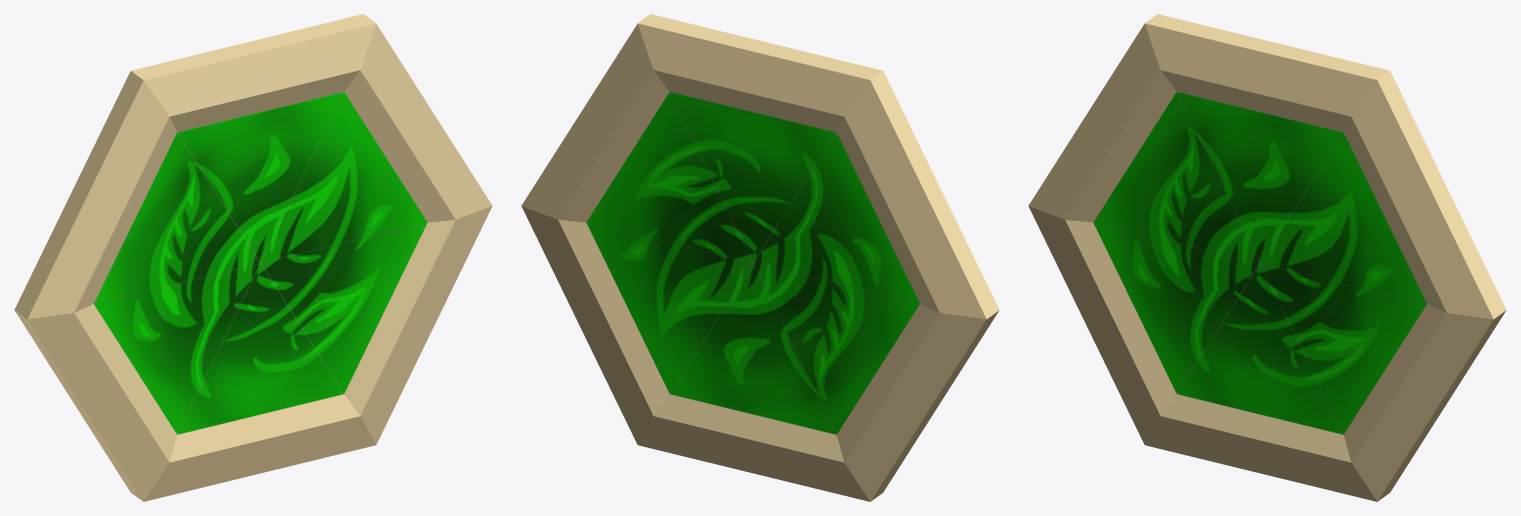
The model's file is GrassMedallion.fbx.
3 renders of one model, left to right at view 1: azimuth 30°, elevation 25°; view 2: azimuth 150°, elevation 25°; view 3: azimuth 330°, elevation 25°, orthographic.
Visible parts, largest first — view 1: pCylinder1; view 2: pCylinder1; view 3: pCylinder1.
Part boxes in pixels (bbox=[...]): pCylinder1: bbox=[14, 14, 492, 501]; pCylinder1: bbox=[521, 14, 999, 501]; pCylinder1: bbox=[1028, 14, 1506, 501].
Size of the model in its own units: 2.79 by 2.41 by 0.2383.
